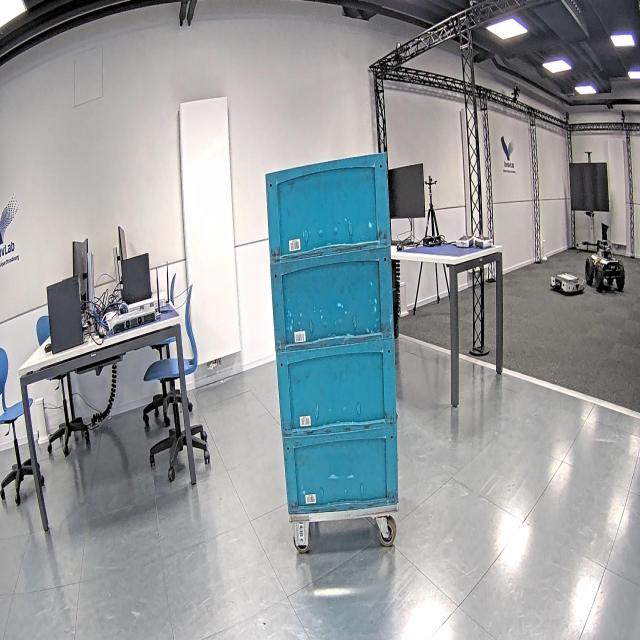BoxB4: (262, 148, 401, 519)
